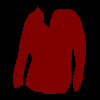felpa: (12, 6, 86, 94)
